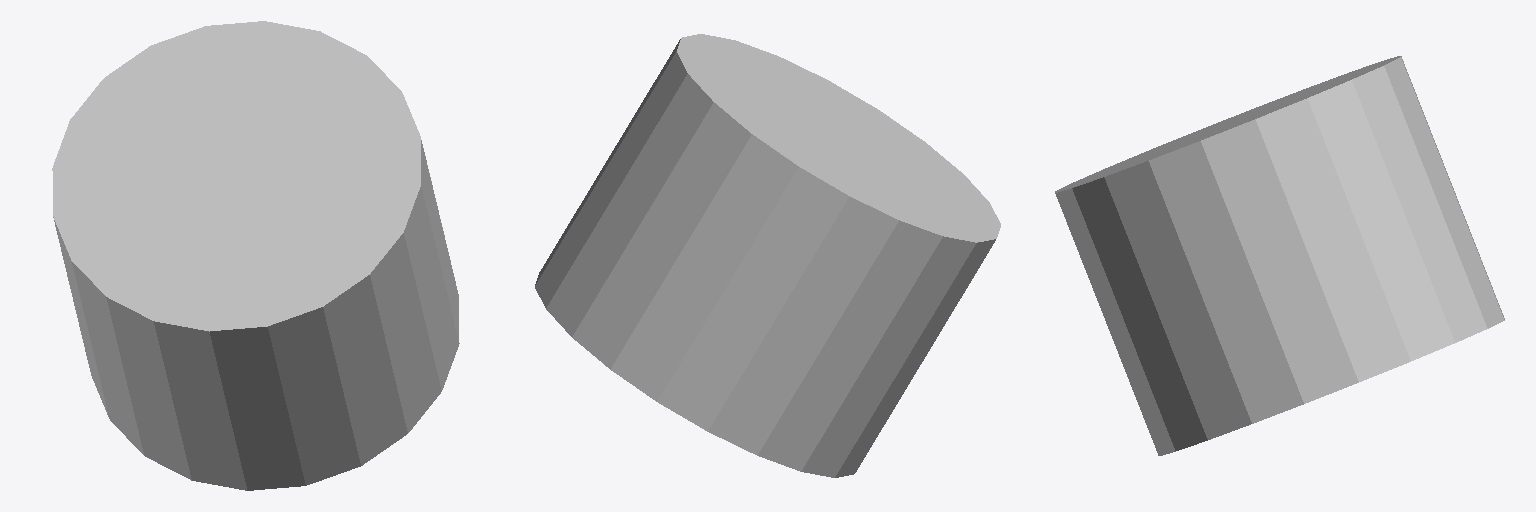
Rendered from Nervio_supraclavicular_D_2.obj.
3 views of the same model, side by side, from view 1: azimuth 30°, elevation 25°; view 2: azimuth 150°, elevation 25°; view 3: azimuth 270°, elevation 25° (orthographic).
Parts seen in each view (by area): view 1: polySurface18 polySurface18 MArcadores_; view 2: polySurface18 polySurface18 MArcadores_; view 3: polySurface18 polySurface18 MArcadores_.
Boxes of the visible parts, <box> form: polySurface18 polySurface18 MArcadores_: <box>52,21,459,490</box>; polySurface18 polySurface18 MArcadores_: <box>535,34,1000,477</box>; polySurface18 polySurface18 MArcadores_: <box>1055,56,1504,455</box>.
Size of the model in its own units: 0.0337 by 0.0324 by 0.0334.